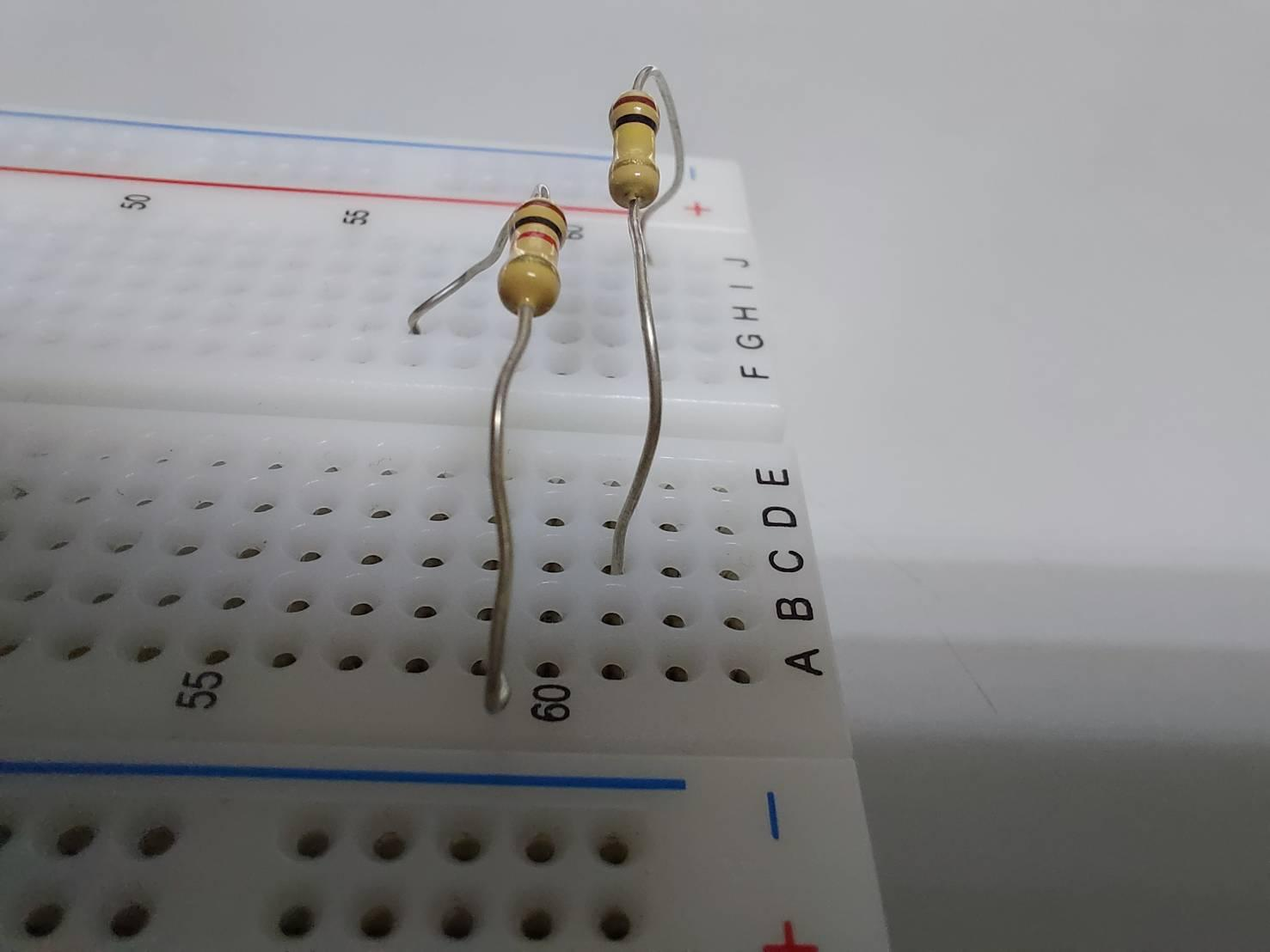resistor: (504, 197, 574, 314), (607, 89, 675, 209)
